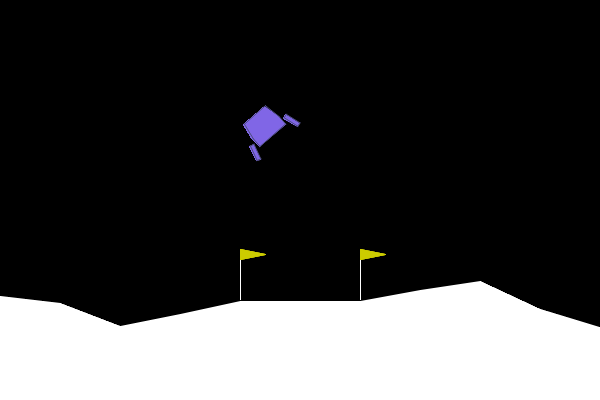lander: (231, 94, 302, 164)
